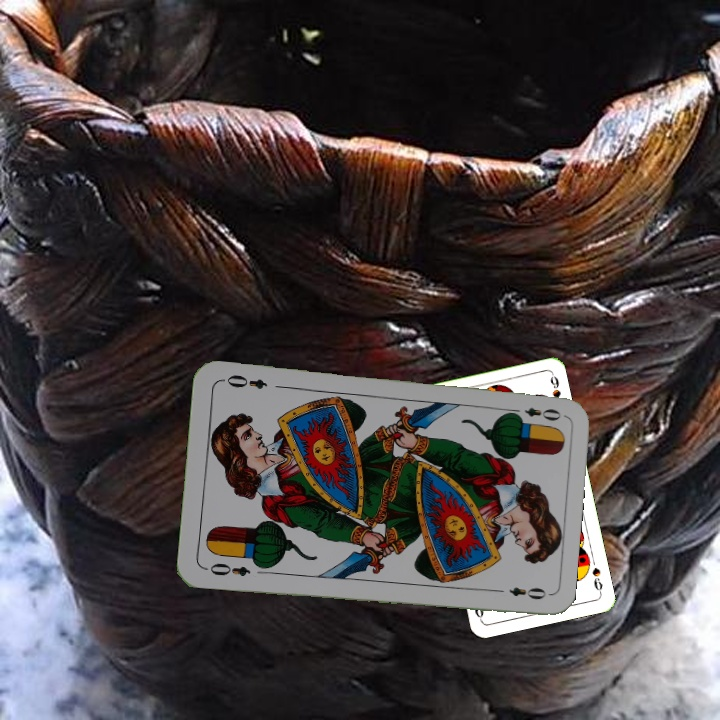EO: (506, 403, 564, 423), (201, 559, 253, 579)
S9: (588, 564, 605, 596)
